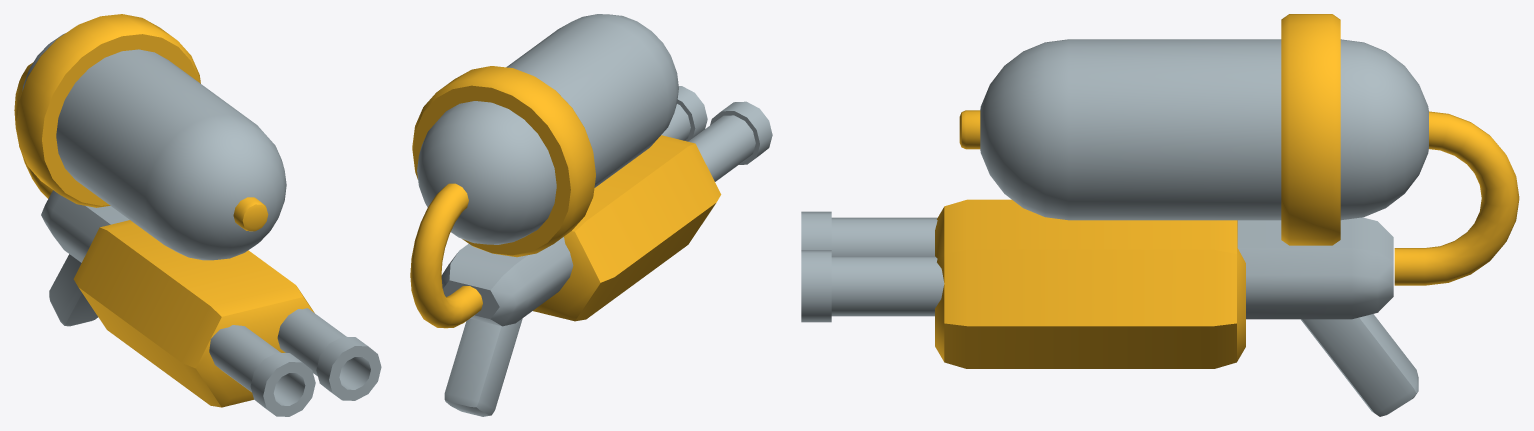
File: blaster_teamYellow-col.glb
The picture shows the model from 3 angles, left to right: view 1: azimuth 30°, elevation 25°; view 2: azimuth 150°, elevation 25°; view 3: azimuth 270°, elevation 25°; orthographic projection. The views are drawn at different scales.
Visible parts, largest first — view 1: blaster_teamYellow-col; view 2: blaster_teamYellow-col; view 3: blaster_teamYellow-col.
Part boxes in pixels (bbox=[...]): blaster_teamYellow-col: bbox=[14, 14, 381, 416]; blaster_teamYellow-col: bbox=[410, 14, 772, 416]; blaster_teamYellow-col: bbox=[801, 14, 1519, 416].
Bounding box in the file's own units: 0.4309 × 0.7874 × 1.33.
